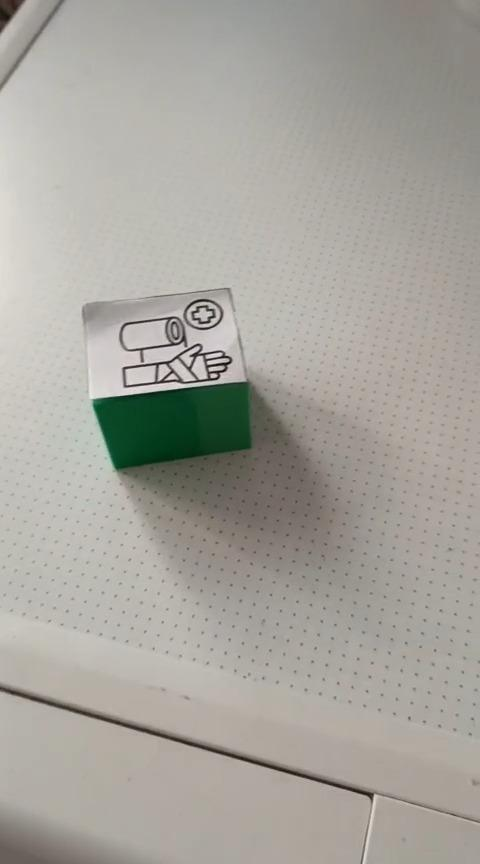Bandages: (81, 287, 251, 469)
